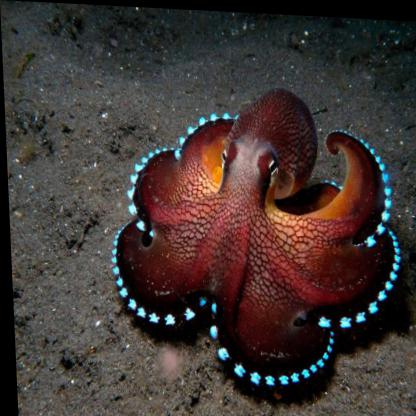Squid: (102, 78, 407, 401)
